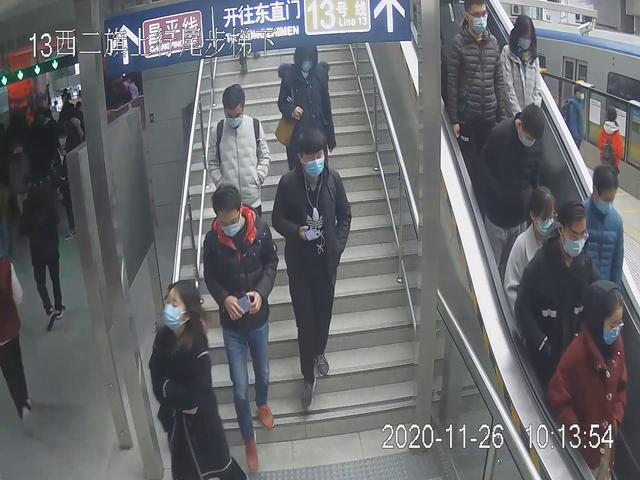person: (268, 129, 351, 414), (203, 186, 280, 474), (149, 278, 247, 480), (512, 202, 602, 410), (548, 275, 629, 480), (466, 103, 544, 289), (270, 33, 342, 193), (204, 83, 272, 244), (444, 1, 501, 187), (494, 10, 546, 157)
